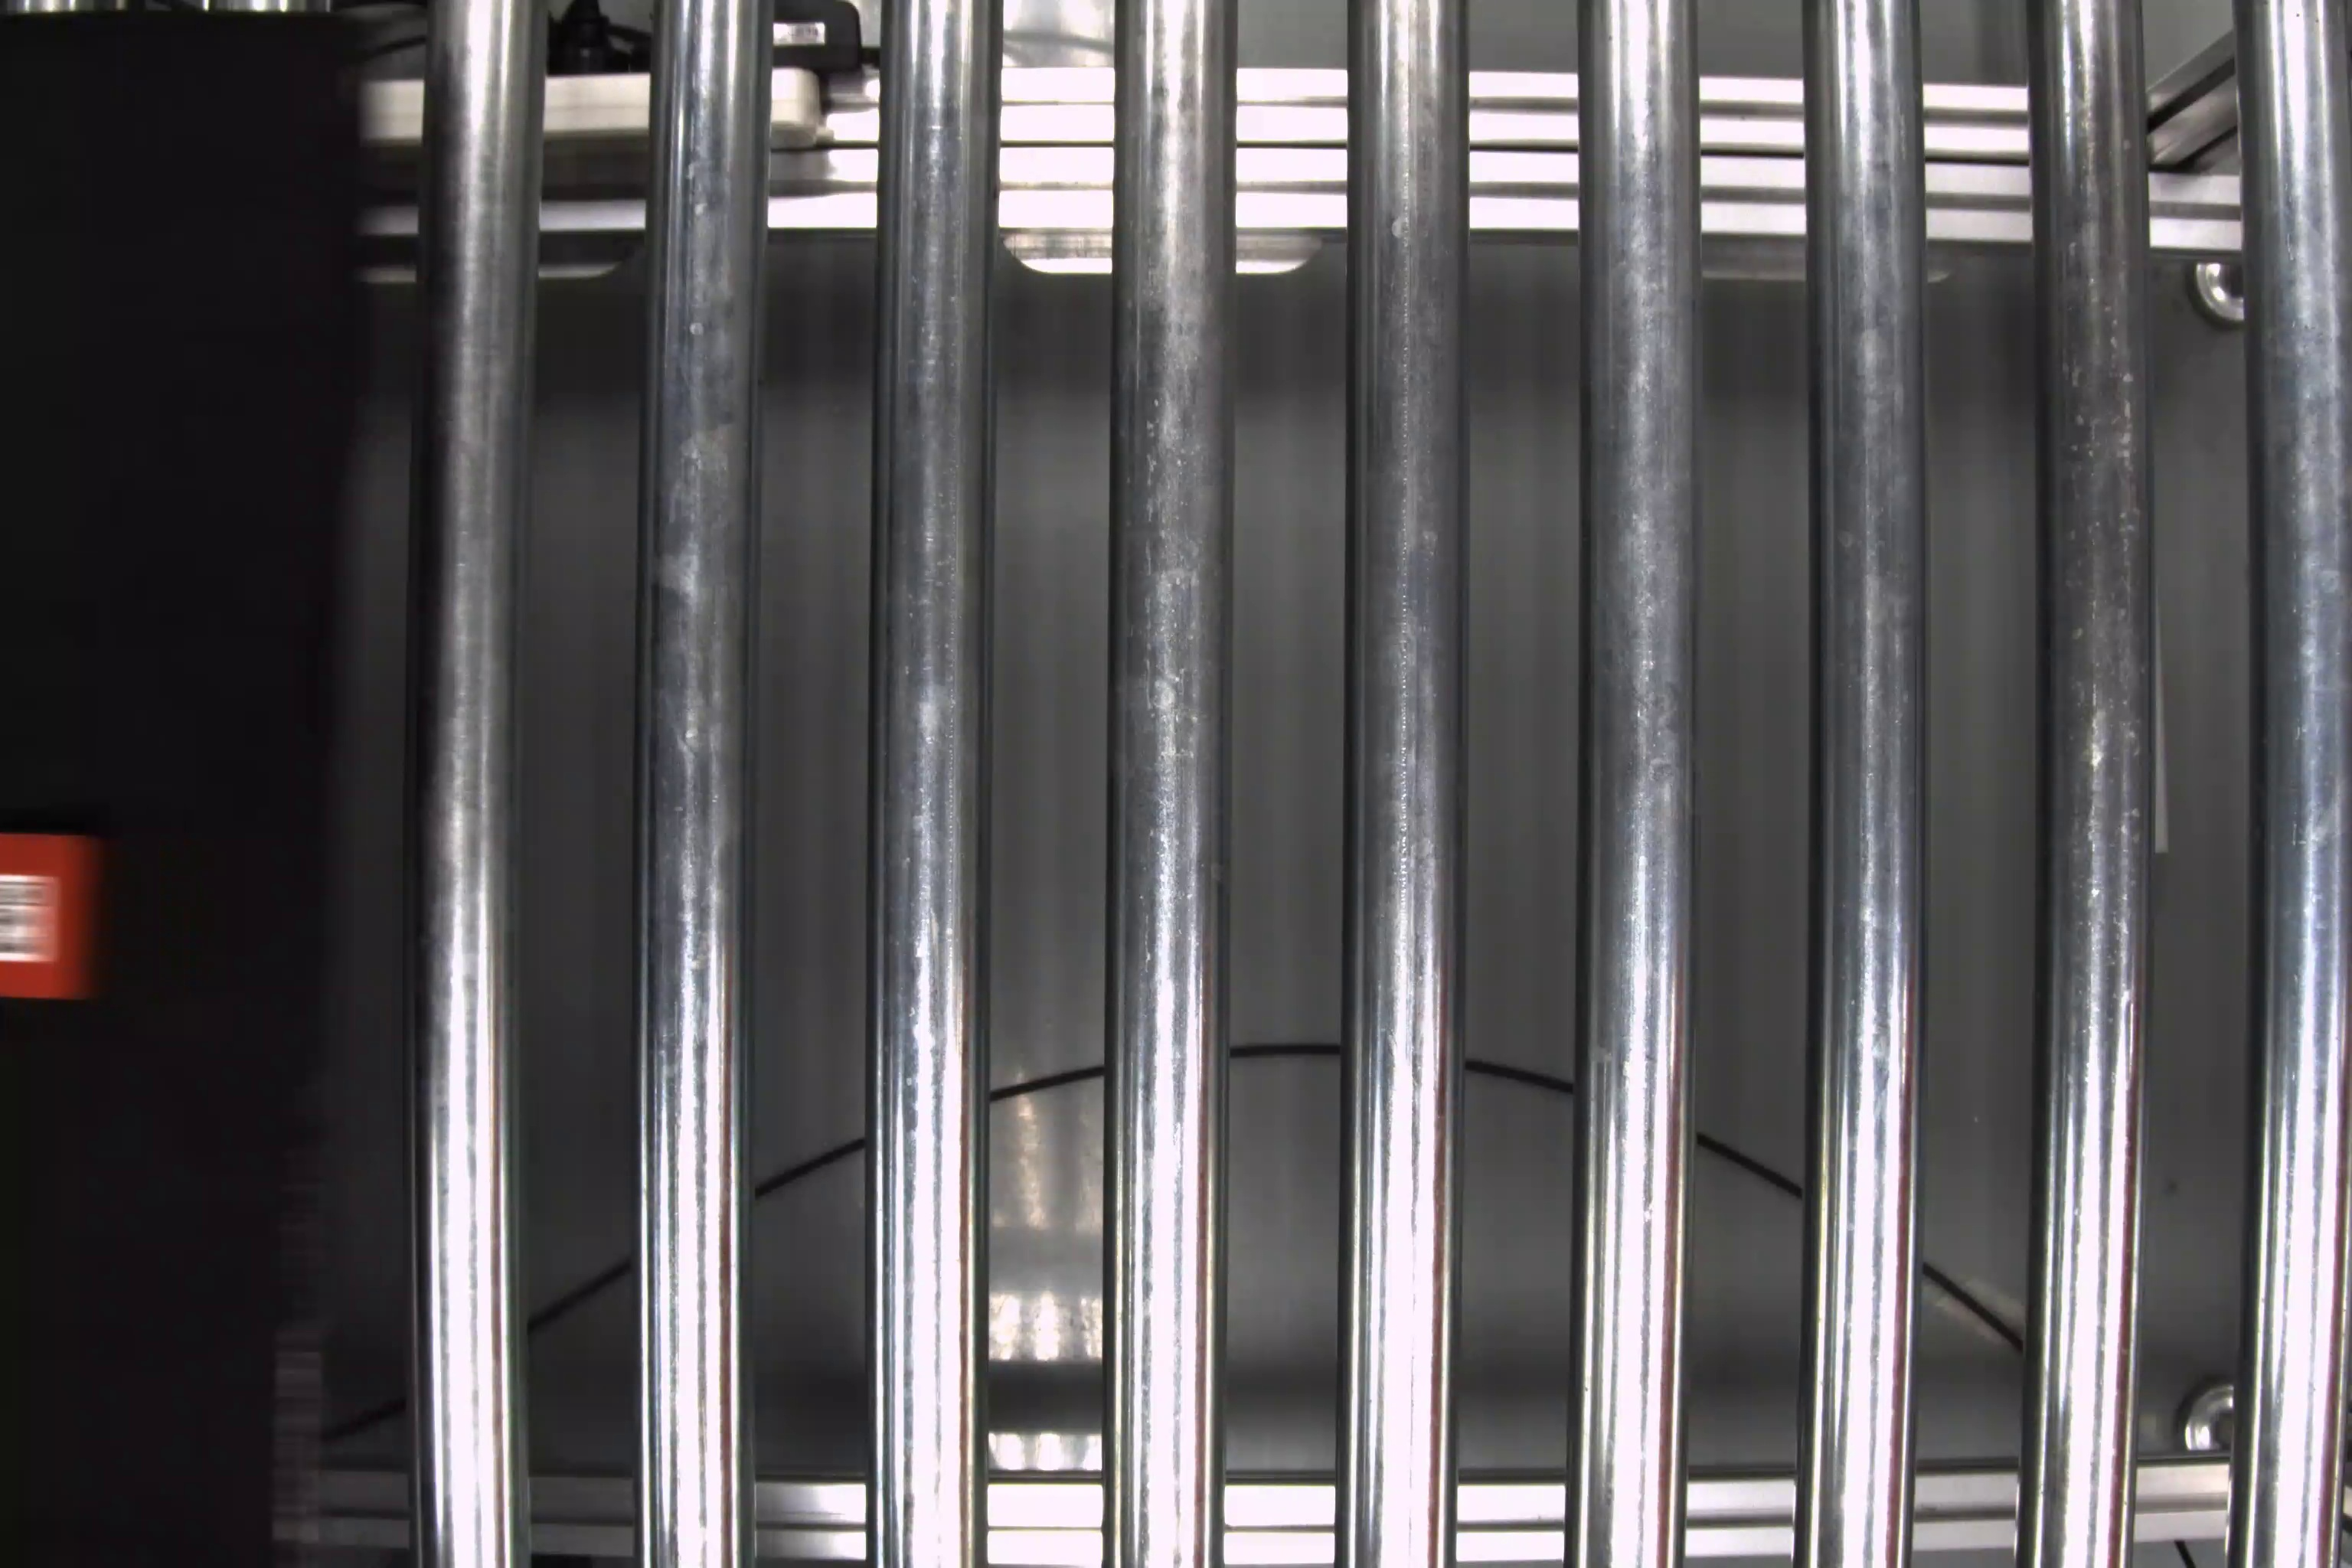wood: (2, 822, 117, 1006)
